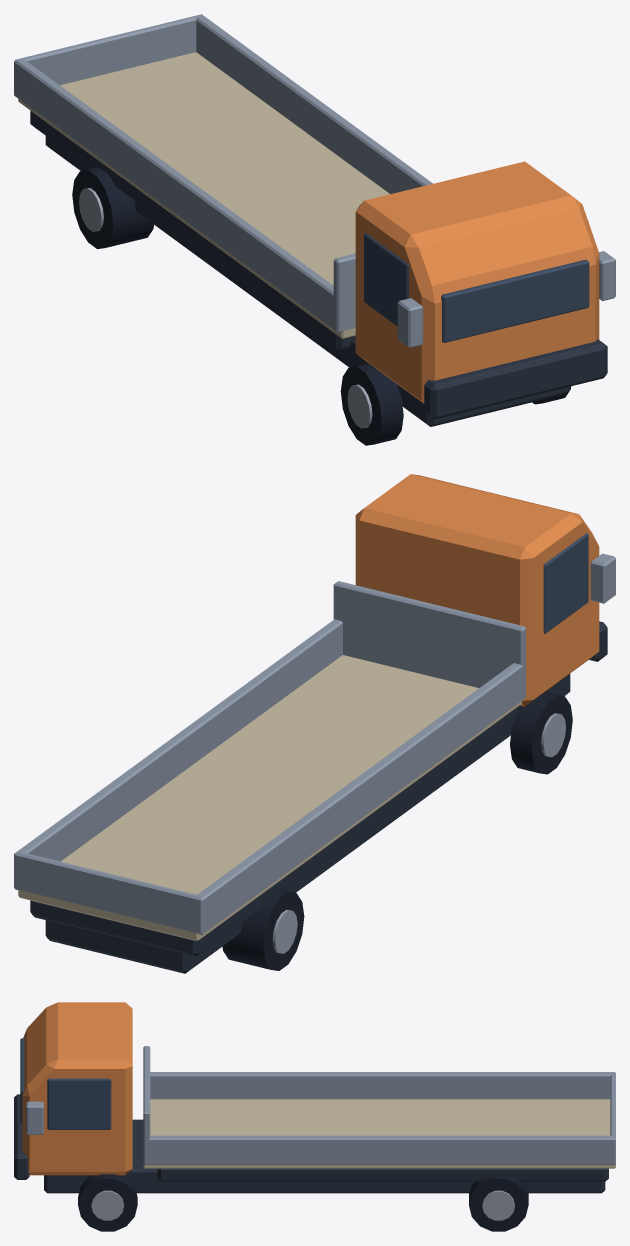
Rendered from truck_4t_empty.glb.
3 renders of one model, top to bottom at view 1: azimuth 30°, elevation 25°; view 2: azimuth 150°, elevation 25°; view 3: azimuth 270°, elevation 25°, orthographic. The views are drawn at different scales.
Parts seen in each view (by area): view 1: truck_4t_empty; view 2: truck_4t_empty; view 3: truck_4t_empty.
Boxes of the visible parts, box(x1,y1,x2,y2) form: truck_4t_empty: box(14, 14, 615, 445); truck_4t_empty: box(14, 474, 615, 973); truck_4t_empty: box(14, 1002, 615, 1231).
Size of the model in its own units: 2.46 by 2.59 by 8.47.
